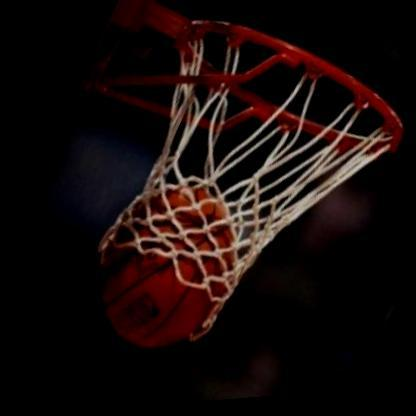basketball: (56, 148, 276, 387)
